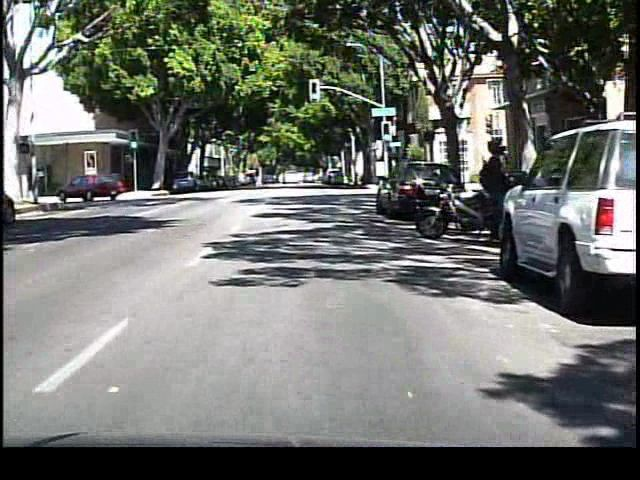person: (472, 132, 517, 248)
